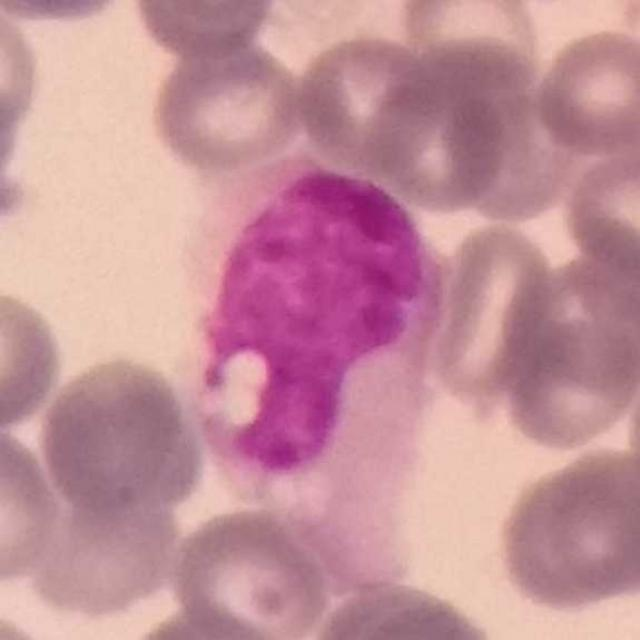mono: (181, 141, 446, 586)
